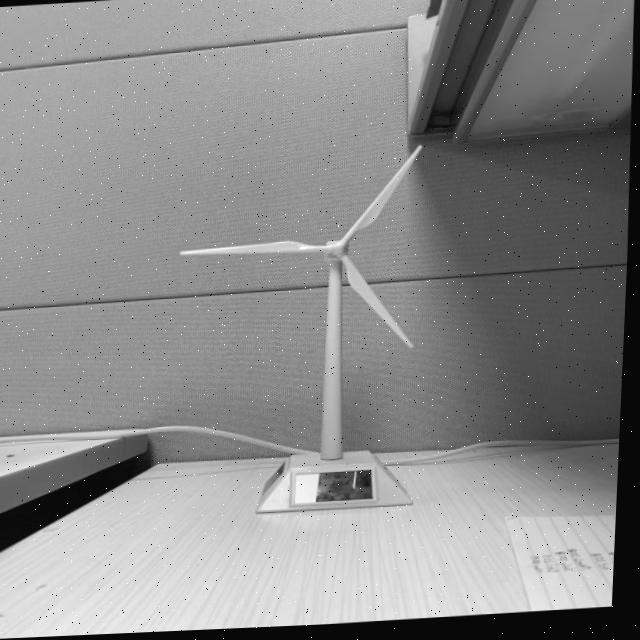solid-blade: (344, 148, 423, 246), (345, 257, 416, 351), (182, 242, 322, 257)
